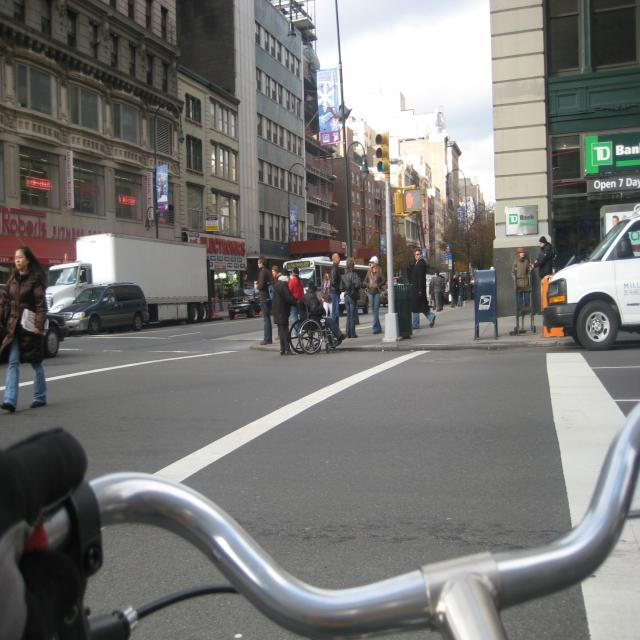body: (0, 243, 50, 416), (0, 518, 32, 640), (300, 280, 348, 349), (272, 265, 304, 356), (410, 247, 436, 330), (362, 255, 388, 334), (253, 254, 274, 346), (339, 256, 361, 338), (531, 235, 553, 315), (510, 246, 534, 316), (288, 266, 305, 339), (328, 252, 342, 339), (609, 214, 633, 259), (321, 266, 333, 333), (272, 265, 282, 340), (431, 270, 444, 312), (217, 288, 236, 312), (456, 275, 466, 307), (450, 274, 458, 308), (429, 276, 436, 310), (438, 274, 445, 307)
